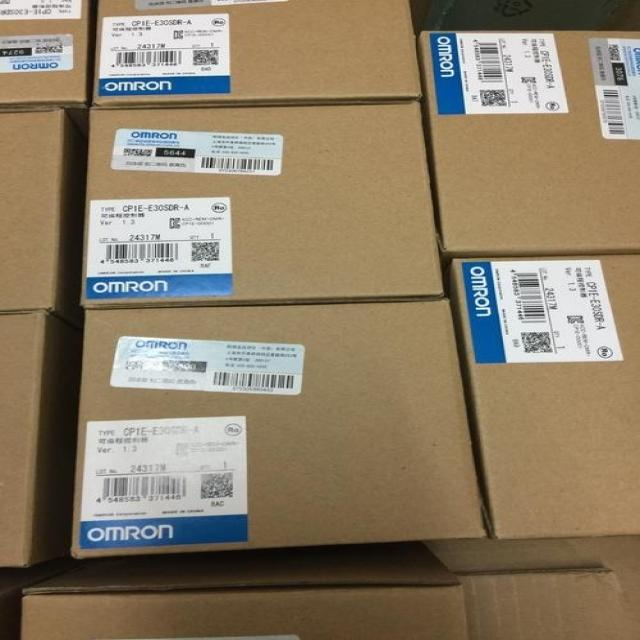box: (68, 295, 490, 556), (78, 99, 444, 307), (444, 255, 639, 535), (418, 30, 639, 258), (20, 544, 469, 639), (95, 1, 415, 103), (431, 533, 639, 639), (0, 307, 85, 565), (0, 108, 84, 333), (0, 0, 92, 109), (409, 0, 639, 31), (0, 553, 73, 639)
